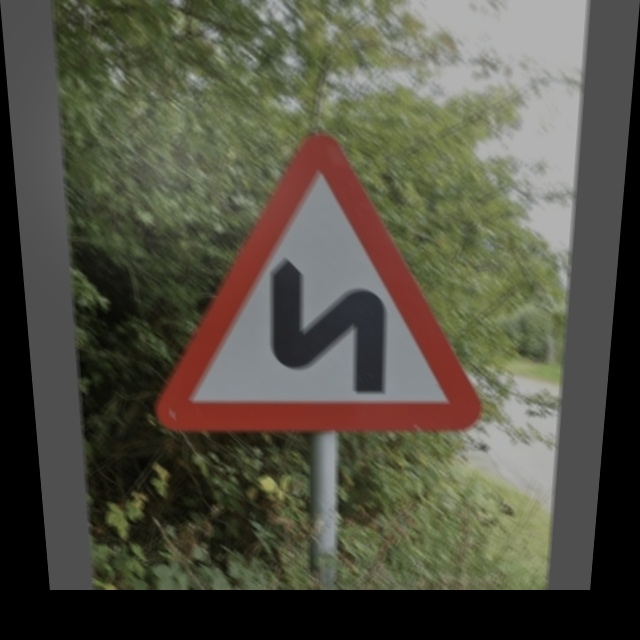Left_Reverse_Bend: (142, 133, 494, 429)
